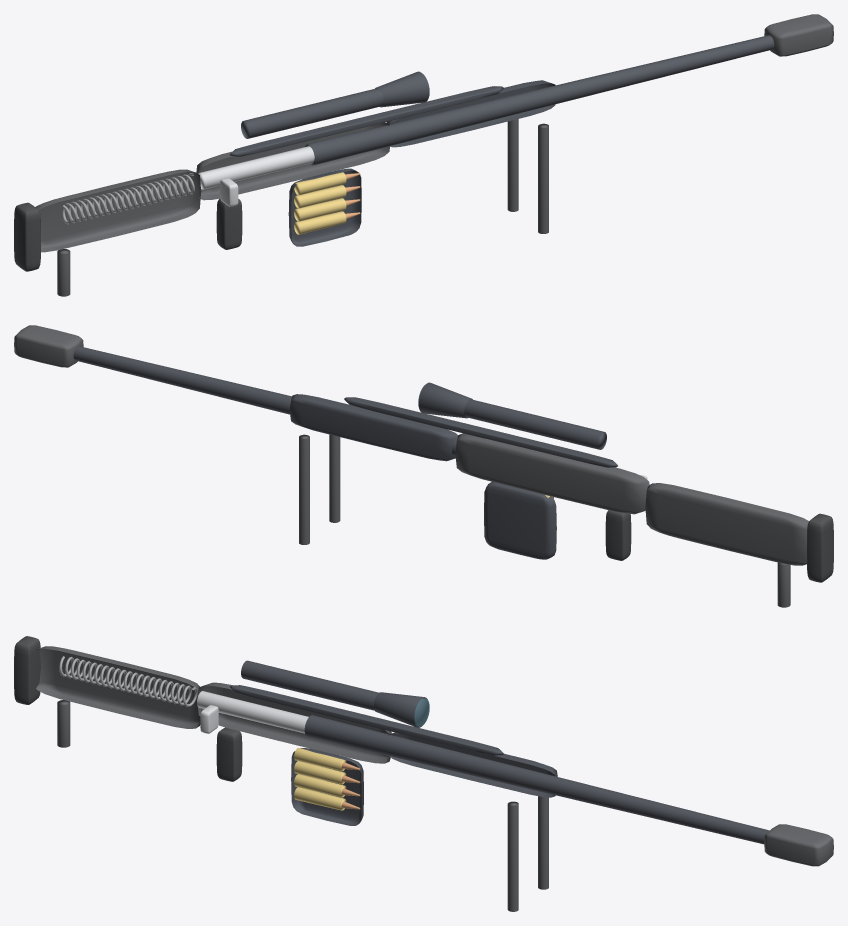
Rendered from alligator-cut.glb.
The picture shows the model from 3 angles, top to bottom: view 1: azimuth 30°, elevation 25°; view 2: azimuth 150°, elevation 25°; view 3: azimuth 330°, elevation 25°; orthographic projection.
Parts seen in each view (by area): view 1: barrel_1200mm, stock_frame, receiver_housing, top_rail_long, optic_body, recoil_damper_spring, muzzle_brake_body, mag_145mm, heavy_bolt, barrel_shroud, buttpad_recoil, optic_obj (+8 smaller); view 2: stock_frame, receiver_housing, barrel_shroud, mag_145mm, barrel_1200mm, top_rail_long, optic_body, muzzle_brake_body, buttpad_recoil, optic_obj, pistol_grip, bipod_leg_L (+2 smaller); view 3: barrel_1200mm, stock_frame, receiver_housing, top_rail_long, optic_body, recoil_damper_spring, muzzle_brake_body, mag_145mm, barrel_shroud, heavy_bolt, buttpad_recoil, optic_obj (+8 smaller).
Boxes of the visible parts, x1,y1,x2,y2 form: barrel_1200mm: [305, 35, 774, 165]; stock_frame: [35, 169, 201, 252]; receiver_housing: [196, 122, 389, 200]; top_rail_long: [230, 86, 503, 156]; optic_body: [241, 88, 383, 138]; recoil_damper_spring: [62, 173, 194, 224]; muzzle_brake_body: [764, 14, 833, 56]; mag_145mm: [288, 168, 361, 246]; heavy_bolt: [198, 146, 314, 189]; barrel_shroud: [386, 80, 555, 147]; buttpad_recoil: [14, 202, 40, 271]; optic_obj: [375, 71, 429, 107]; stock_frame: [645, 483, 808, 565]; receiver_housing: [455, 433, 649, 514]; barrel_shroud: [289, 394, 458, 461]; mag_145mm: [484, 482, 556, 559]; barrel_1200mm: [73, 346, 457, 456]; top_rail_long: [344, 397, 617, 467]; optic_body: [464, 399, 606, 449]; muzzle_brake_body: [14, 325, 83, 367]; buttpad_recoil: [807, 513, 833, 582]; optic_obj: [418, 382, 472, 418]; pistol_grip: [605, 510, 631, 560]; bipod_leg_L: [299, 434, 309, 544]; barrel_1200mm: [304, 715, 769, 844]; stock_frame: [36, 646, 201, 728]; receiver_housing: [197, 682, 391, 763]; top_rail_long: [230, 685, 503, 755]; optic_body: [241, 660, 378, 710]; recoil_damper_spring: [59, 656, 197, 706]; muzzle_brake_body: [764, 824, 833, 866]; mag_145mm: [291, 748, 363, 825]; barrel_shroud: [388, 732, 557, 797]; heavy_bolt: [197, 691, 308, 733]; buttpad_recoil: [14, 636, 40, 704]; optic_obj: [374, 692, 428, 727].
Size of the model in its own units: 2 by 0.412 by 0.1536.
